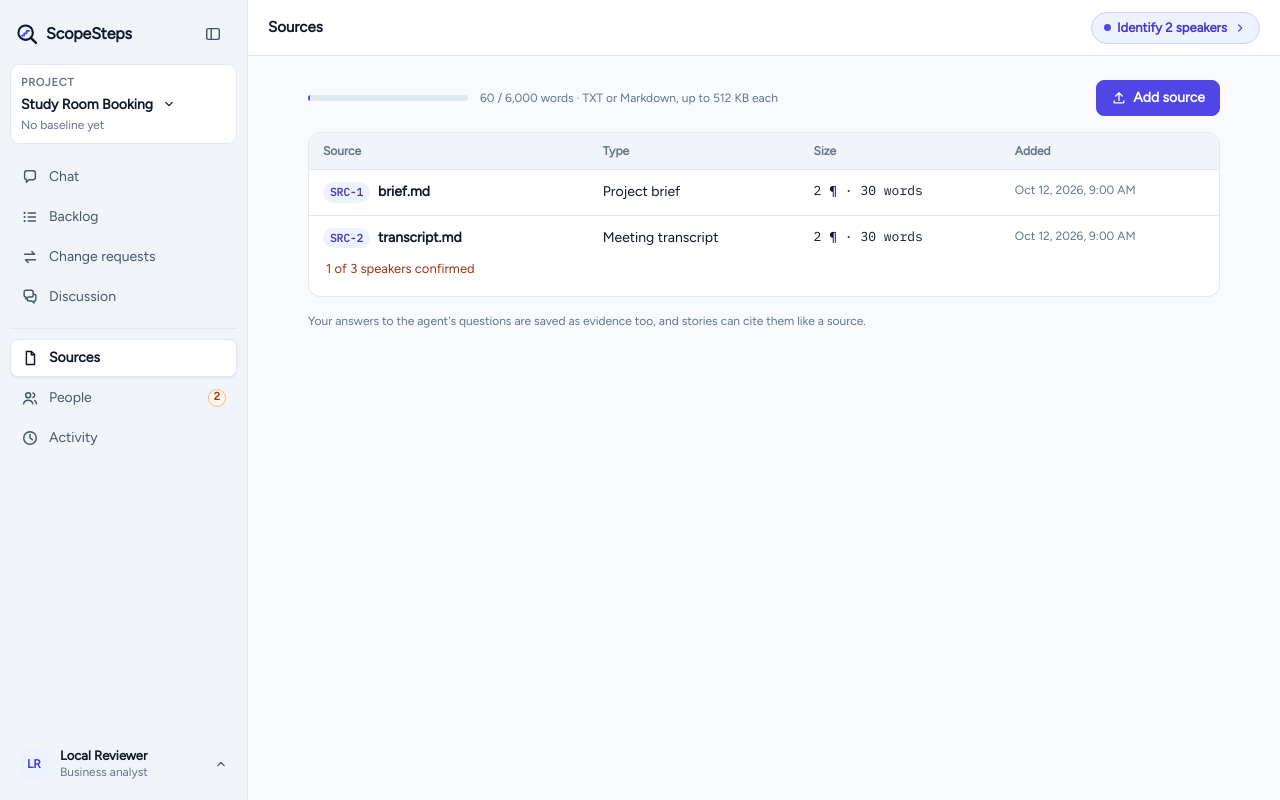
it: People and Sources with transcript speakers › shows how many of a transcript’s speakers are confirmed in Sources, and opens Who’s who
Click the button with aria-label "Who's who in SRC-2 transcript.md: 1 of 3 speakers confirmed": point(400, 269) x1=315 y1=254 x2=486 y2=284
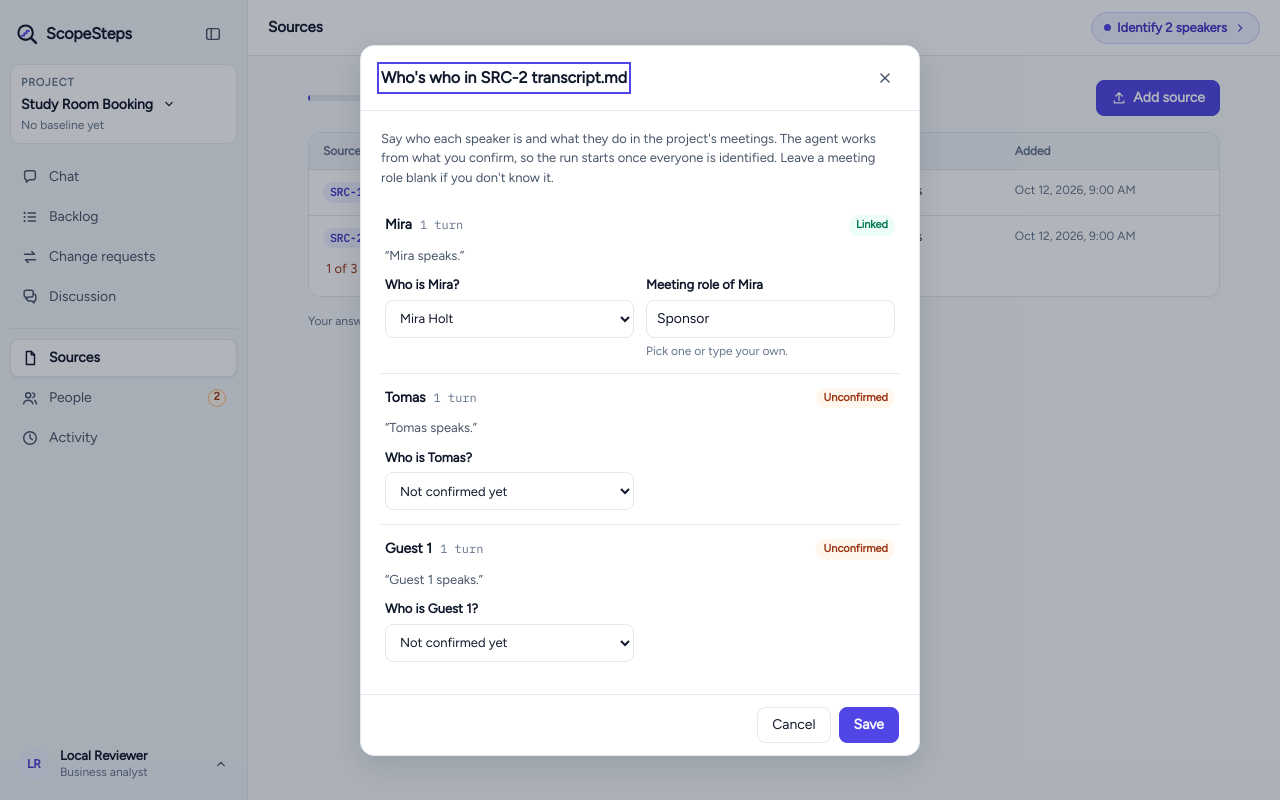
Now the dialog "Who's who in SRC-2 transcript.md" is shown, box x1=360 y1=44 x2=920 y2=756
